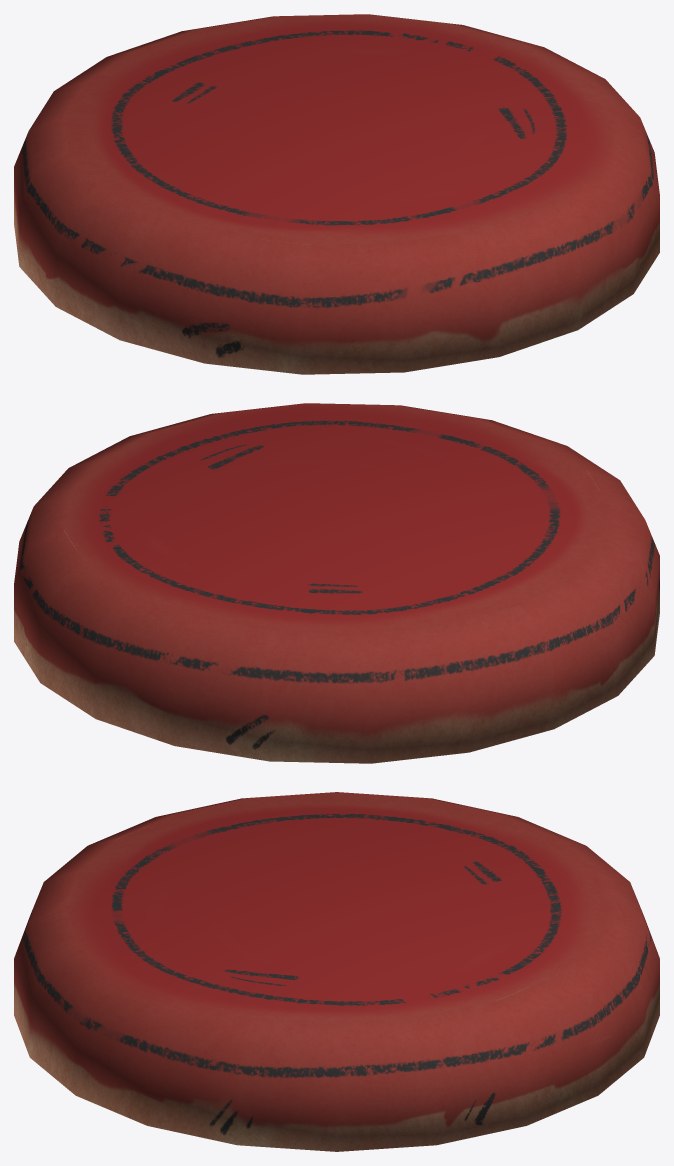
Rendered from button.fbx.
The picture shows the model from 3 angles, top to bottom: view 1: azimuth 30°, elevation 25°; view 2: azimuth 150°, elevation 25°; view 3: azimuth 270°, elevation 25°; orthographic projection.
Parts seen in each view (by area): view 1: Button; view 2: Button; view 3: Button.
Part boxes in pixels (x1,y1,x2,y2): Button: (14,14,659,374); Button: (14,403,659,763); Button: (14,792,659,1151).
Size of the model in its own units: 102 by 18.89 by 102.
Materials: 1 (1 with a texture image).
